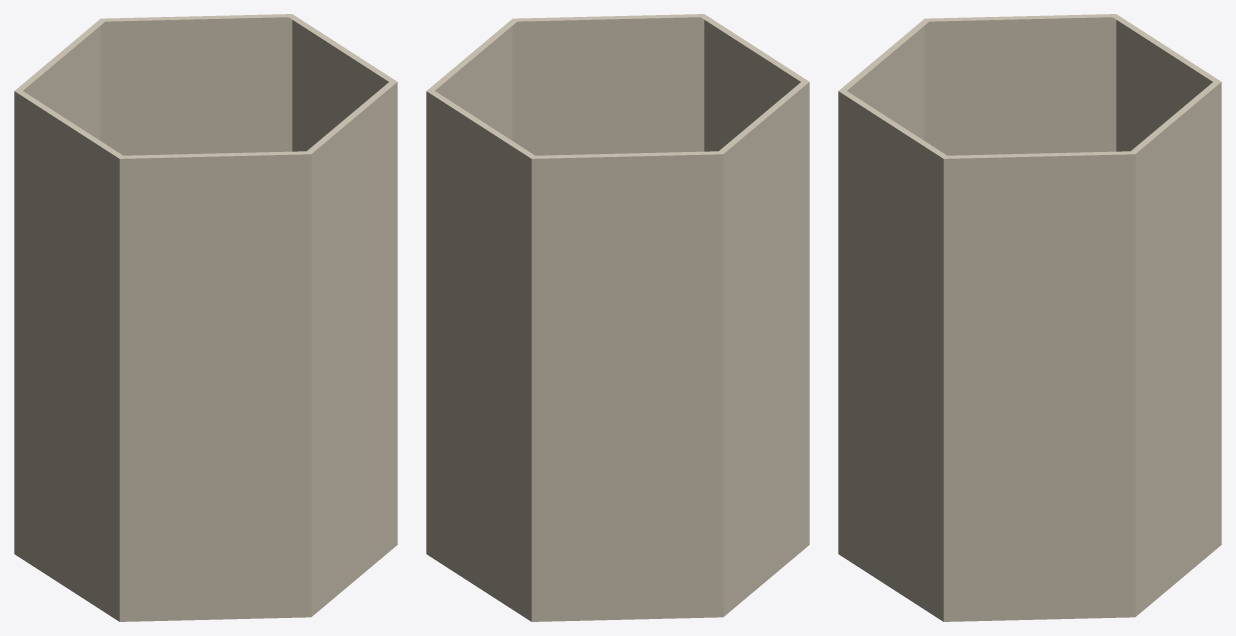
File: lantern_v3.glb
3 views of the same model, side by side, from view 1: azimuth 30°, elevation 25°; view 2: azimuth 150°, elevation 25°; view 3: azimuth 270°, elevation 25° (orthographic).
Visible parts, largest first — view 1: Paper_Panels; view 2: Paper_Panels; view 3: Paper_Panels.
Boxes of the visible parts, x1,y1,x2,y2 form: Paper_Panels: (14,14,397,621); Paper_Panels: (426,14,809,621); Paper_Panels: (838,14,1221,621).
Bounding box in the file's own units: 91.54 × 136 × 102.
